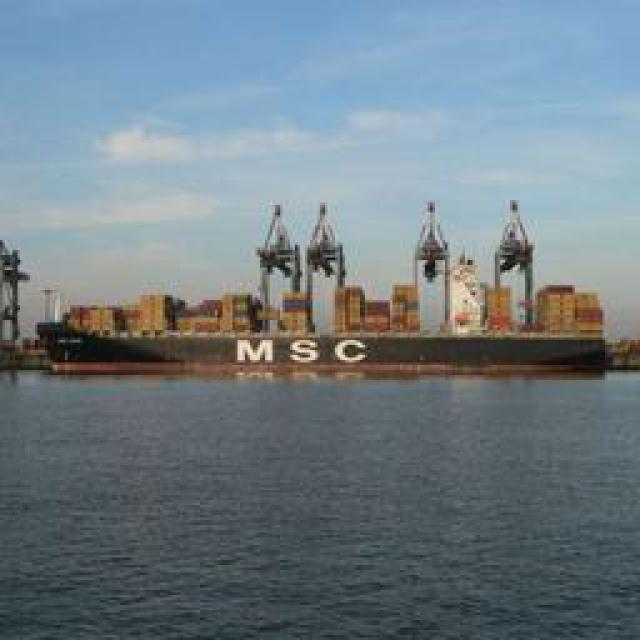Ship: (30, 193, 620, 378)
